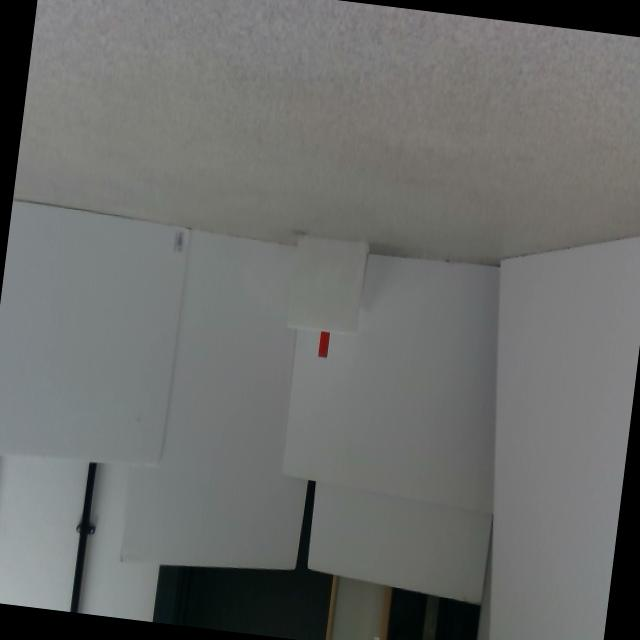red_cylinder: (318, 331, 330, 357)
